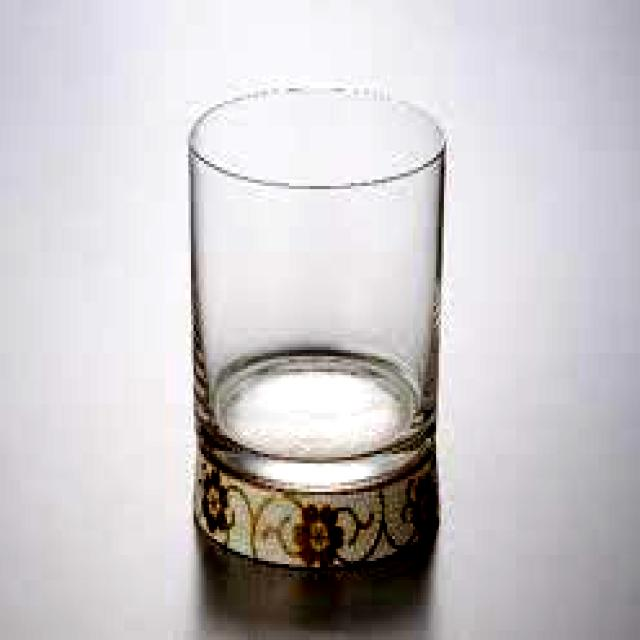Glass: (181, 78, 448, 580)
